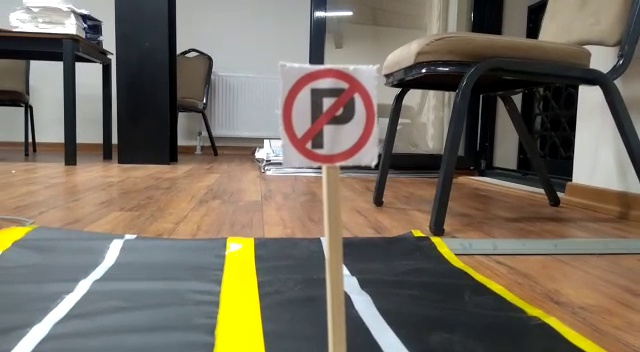park_yapilmaz: (284, 60, 378, 167)
